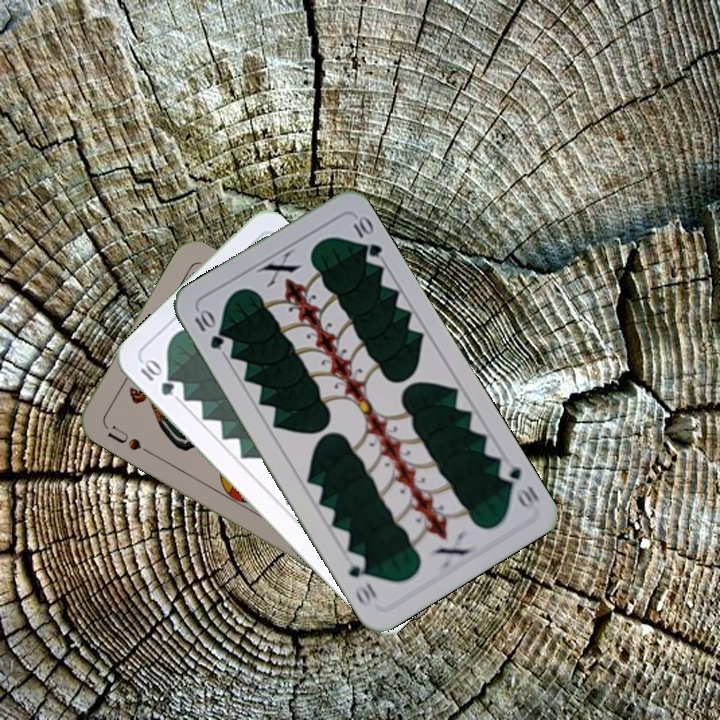G10: (494, 456, 542, 513), (136, 355, 177, 399), (190, 305, 227, 352)
SU: (99, 419, 153, 457)
